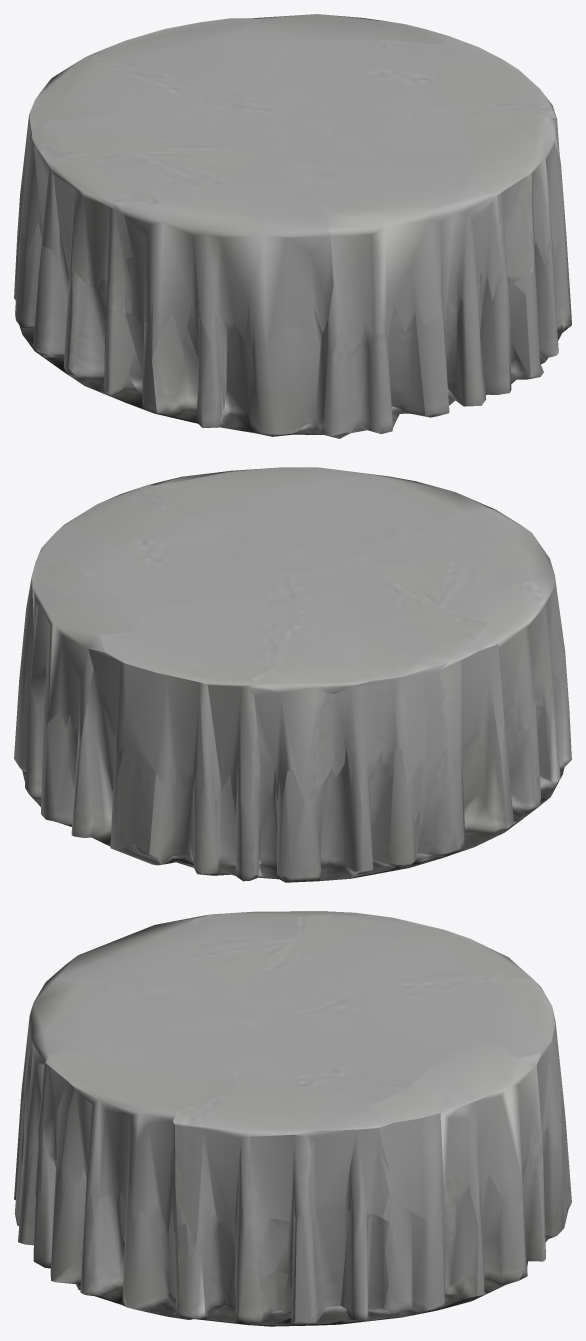
The model's file is meja_bundar_putih_lod2.glb.
3 views of the same model, one above another, from view 1: azimuth 30°, elevation 25°; view 2: azimuth 150°, elevation 25°; view 3: azimuth 270°, elevation 25° (orthographic).
Visible parts, largest first — view 1: tripo_node_05602d07-4d79-468c-ab63-641d2823760d; view 2: tripo_node_05602d07-4d79-468c-ab63-641d2823760d; view 3: tripo_node_05602d07-4d79-468c-ab63-641d2823760d.
Boxes of the visible parts, x1,y1,x2,y2 form: tripo_node_05602d07-4d79-468c-ab63-641d2823760d: [14, 14, 571, 438]; tripo_node_05602d07-4d79-468c-ab63-641d2823760d: [14, 467, 571, 882]; tripo_node_05602d07-4d79-468c-ab63-641d2823760d: [14, 911, 571, 1326].
Size of the model in its own units: 0.9943 by 0.4081 by 0.9992.
Materials: 1 (1 with a texture image).
